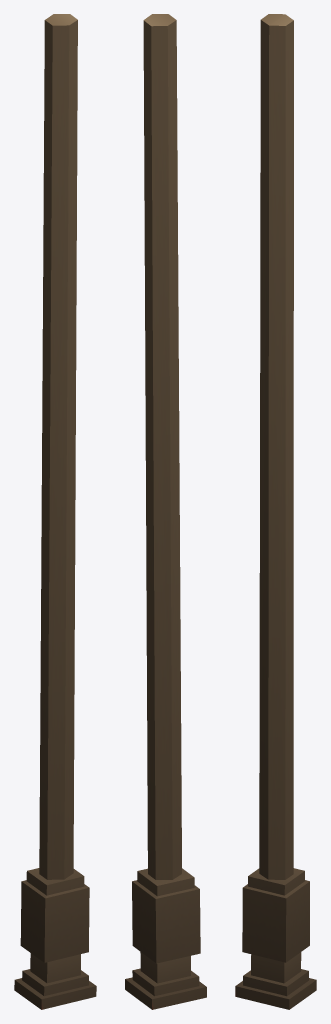
File: ZLP_Build_F_33.FBX
3 renders of one model, left to right at view 1: azimuth 30°, elevation 25°; view 2: azimuth 210°, elevation 25°; view 3: azimuth 330°, elevation 25°, orthographic.
Parts seen in each view (by area): view 1: ZLP_Build_F_33; view 2: ZLP_Build_F_33; view 3: ZLP_Build_F_33.
Part boxes in pixels (<box>): ZLP_Build_F_33: <box>14,14,96,1009</box>; ZLP_Build_F_33: <box>125,14,206,1009</box>; ZLP_Build_F_33: <box>235,14,316,1009</box>.
Bounding box in the file's own units: 52.97 × 905 × 46.67.
